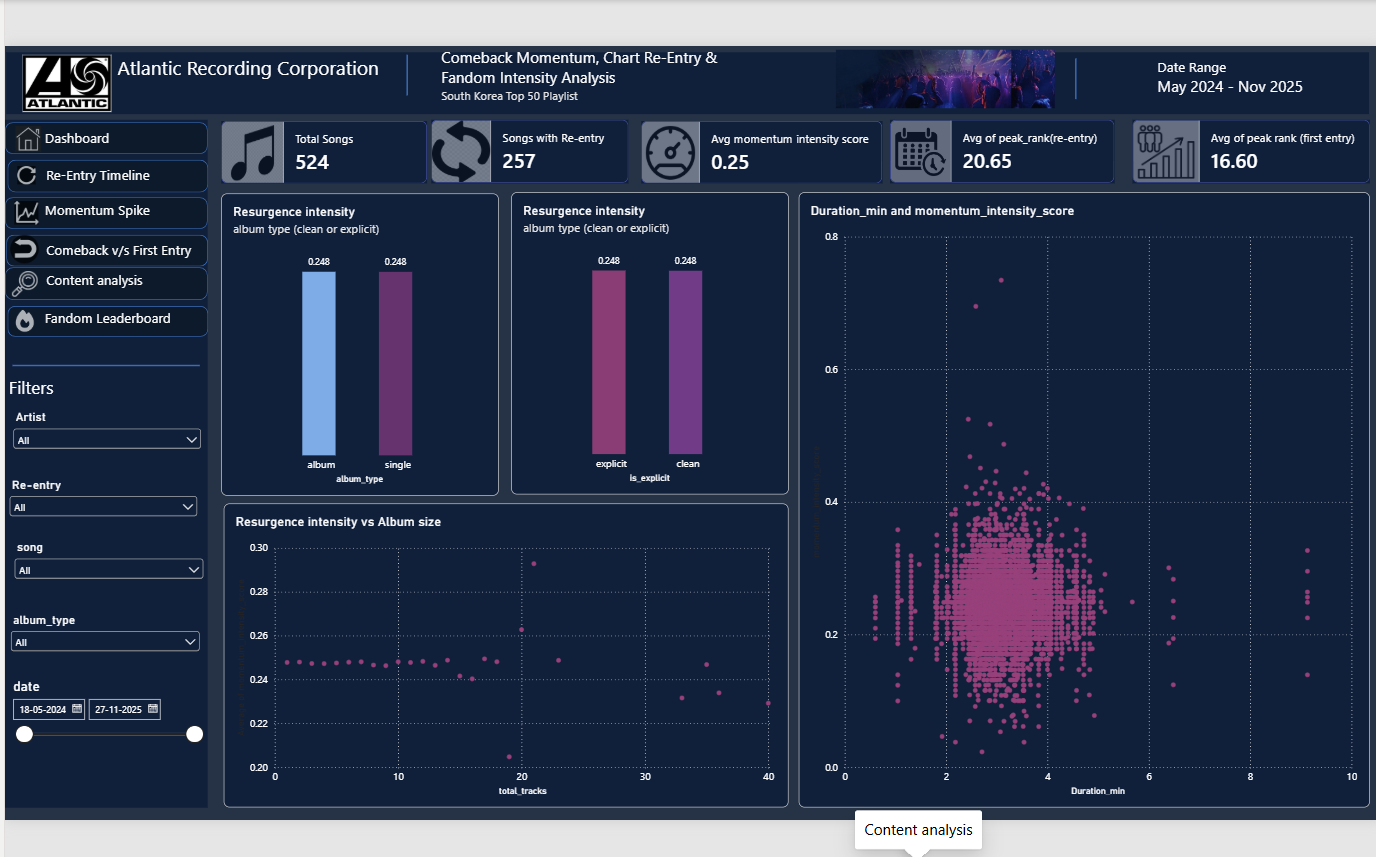

What the dashboard file says about the page in this screenshot:
{"tool":"powerbi","page":{"name":"Content analysis","canvas":[1920,1080],"ordinal":4},"visuals":[{"type":"shape","box":[0,102.9,282.9,960],"z":0},{"type":"slicer","fields":{"Values":["Atlantic_South_Korea_data_processed.artist"]},"box":[6.2,508.2,271.4,94.3],"z":1000},{"type":"slicer","fields":{"Values":["Atlantic_South_Korea_data_processed.date"]},"box":[3.1,882.3,277.1,145.7],"z":2000},{"type":"slicer","fields":{"Values":["Atlantic_South_Korea_data_processed.song"]},"box":[9.4,689,272.9,77.1],"z":3000},{"type":"slicer","fields":{"Values":["Atlantic_South_Korea_data_processed.re_entry"]},"box":[1.6,601.7,271.4,77.1],"z":4000},{"type":"cardVisual","fields":{"Data":["Avg(Atlantic_South_Korea_data_processed.peak_rank)"]},"box":[1235,102.9,314,89],"z":5000},{"type":"cardVisual","fields":{"Data":["Count(Atlantic_South_Korea_data_processed.song)"]},"box":[302.1,105,287.1,87.1],"z":6000},{"type":"cardVisual","fields":{"Data":["Count(Reentry_Frequency.song)"]},"box":[594.8,102.9,275.6,89],"z":7000},{"type":"cardVisual","fields":{"Data":["Avg(Atlantic_South_Korea_data_processed.momentum_intensity_score)"]},"box":[887.8,104.7,336.6,87.2],"z":8000},{"type":"cardVisual","fields":{"Data":["Avg(Atlantic_South_Korea_data_processed.peak_rank)"]},"box":[1572.6,102.9,331.4,88.5],"z":9000},{"type":"slicer","fields":{"Values":["Atlantic_South_Korea_data_processed.album_type"]},"box":[3.1,790.4,272.9,72.9],"z":10000},{"type":"shape","box":[1.7,8.3,1901.7,86.7],"z":11000},{"type":"image","box":[15,11.7,141.7,80],"z":12000},{"type":"textbox","box":[156.7,11.7,406.7,80],"z":13000},{"type":"shape","box":[533.3,11.7,55,56.7],"z":14000},{"type":"shape","box":[1480,18,26.7,56.7],"z":15000},{"type":"textbox","box":[608.3,0,420,86.7],"z":16000},{"type":"textbox","box":[1608.3,15,260,71.7],"z":17000},{"type":"image","box":[1076.7,5,471.7,81.7],"z":18000},{"type":"shape","box":[0,105.7,282.9,44.3],"z":19000},{"type":"image","box":[1.2,111.2,61.2,36.2],"z":20000},{"type":"textbox","box":[55.7,115.7,202.9,34.3],"z":21000},{"type":"shape","box":[2.9,158.6,280,45.7],"z":22000},{"type":"shape","box":[0,211.4,282.9,44.3],"z":23000},{"type":"shape","box":[1.4,262.9,281.4,44.3],"z":24000},{"type":"shape","box":[0,308.6,282.9,45.7],"z":25000},{"type":"image","box":[2.9,167.1,52.9,25.7],"z":26000},{"type":"image","box":[2.9,215.7,52.9,32.9],"z":27000},{"type":"image","box":[0,262.9,55,40],"z":28000},{"type":"image","box":[0,314.3,55,36.2],"z":29000},{"type":"textbox","box":[57.5,167.5,202.3,36.6],"z":30000},{"type":"textbox","box":[55.7,215.7,202.3,36.6],"z":31000},{"type":"textbox","box":[57.1,271.4,219.8,36.6],"z":32000},{"type":"textbox","box":[57.5,313.8,202.3,36.6],"z":33000},{"type":"shape","box":[2.9,362.9,280,42.9],"z":34000},{"type":"image","box":[0,366.2,55,36.2],"z":35000},{"type":"textbox","box":[55,366.2,205,36.2],"z":36000},{"type":"textbox","box":[5.7,460,277.1,32.9],"z":37000},{"type":"shape","box":[10,430,261.4,30],"z":38000},{"type":"scatterChart","title":"Resurgence intensity vs Album size","fields":{"X":["Atlantic_South_Korea_data_processed.total_tracks"],"Y":["Avg(Atlantic_South_Korea_data_processed.momentum_intensity_score)"]},"box":[304.6,638.1,788.3,424],"z":39000},{"type":"scatterChart","fields":{"X":["Atlantic_South_Korea_data_processed.Duration_min"],"Y":["Atlantic_South_Korea_data_processed.momentum_intensity_score"]},"box":[1107.4,203.8,796.6,858.3],"z":40000},{"type":"clusteredColumnChart","title":"Resurgence intensity","fields":{"Category":["Atlantic_South_Korea_data_processed.is_explicit - Copy"],"Y":["Avg(Atlantic_South_Korea_data_processed.momentum_intensity_score)"]},"box":[706,203.8,387,422],"z":41000},{"type":"clusteredColumnChart","title":"Resurgence intensity","fields":{"Category":["Atlantic_South_Korea_data_processed.album_type"],"Y":["Avg(Atlantic_South_Korea_data_processed.momentum_intensity_score)"]},"box":[301.7,205.8,387,422],"z":42000}]}

Visuals, with their boxes on the page's 1920x1080 design canvas (x1, y1, x2, y2). These are canvas units, not pixel positions in the 1376x857 screenshot, which may show the page scaled, cropped or inside an application window:
shape: <bbox>0, 103, 283, 1063</bbox>
slicer - Atlantic_South_Korea_data_processed.artist: <bbox>6, 508, 278, 602</bbox>
slicer - Atlantic_South_Korea_data_processed.date: <bbox>3, 882, 280, 1028</bbox>
slicer - Atlantic_South_Korea_data_processed.song: <bbox>9, 689, 282, 766</bbox>
slicer - Atlantic_South_Korea_data_processed.re_entry: <bbox>2, 602, 273, 679</bbox>
cardVisual - Avg(Atlantic_South_Korea_data_processed.peak_rank): <bbox>1235, 103, 1549, 192</bbox>
cardVisual - Count(Atlantic_South_Korea_data_processed.song): <bbox>302, 105, 589, 192</bbox>
cardVisual - Count(Reentry_Frequency.song): <bbox>595, 103, 870, 192</bbox>
cardVisual - Avg(Atlantic_South_Korea_data_processed.momentum_intensity_score): <bbox>888, 105, 1224, 192</bbox>
cardVisual - Avg(Atlantic_South_Korea_data_processed.peak_rank): <bbox>1573, 103, 1904, 191</bbox>
slicer - Atlantic_South_Korea_data_processed.album_type: <bbox>3, 790, 276, 863</bbox>
shape: <bbox>2, 8, 1903, 95</bbox>
image: <bbox>15, 12, 157, 92</bbox>
textbox: <bbox>157, 12, 563, 92</bbox>
shape: <bbox>533, 12, 588, 68</bbox>
shape: <bbox>1480, 18, 1507, 75</bbox>
textbox: <bbox>608, 0, 1028, 87</bbox>
textbox: <bbox>1608, 15, 1868, 87</bbox>
image: <bbox>1077, 5, 1548, 87</bbox>
shape: <bbox>0, 106, 283, 150</bbox>
image: <bbox>1, 111, 62, 147</bbox>
textbox: <bbox>56, 116, 259, 150</bbox>
shape: <bbox>3, 159, 283, 204</bbox>
shape: <bbox>0, 211, 283, 256</bbox>
shape: <bbox>1, 263, 283, 307</bbox>
shape: <bbox>0, 309, 283, 354</bbox>
image: <bbox>3, 167, 56, 193</bbox>
image: <bbox>3, 216, 56, 249</bbox>
image: <bbox>0, 263, 55, 303</bbox>
image: <bbox>0, 314, 55, 350</bbox>
textbox: <bbox>58, 168, 260, 204</bbox>
textbox: <bbox>56, 216, 258, 252</bbox>
textbox: <bbox>57, 271, 277, 308</bbox>
textbox: <bbox>58, 314, 260, 350</bbox>
shape: <bbox>3, 363, 283, 406</bbox>
image: <bbox>0, 366, 55, 402</bbox>
textbox: <bbox>55, 366, 260, 402</bbox>
textbox: <bbox>6, 460, 283, 493</bbox>
shape: <bbox>10, 430, 271, 460</bbox>
"Resurgence intensity vs Album size" scatterChart: <bbox>305, 638, 1093, 1062</bbox>
scatterChart - Atlantic_South_Korea_data_processed.Duration_min x Atlantic_South_Korea_data_processed.momentum_intensity_score: <bbox>1107, 204, 1904, 1062</bbox>
"Resurgence intensity" clusteredColumnChart: <bbox>706, 204, 1093, 626</bbox>
"Resurgence intensity" clusteredColumnChart: <bbox>302, 206, 689, 628</bbox>
